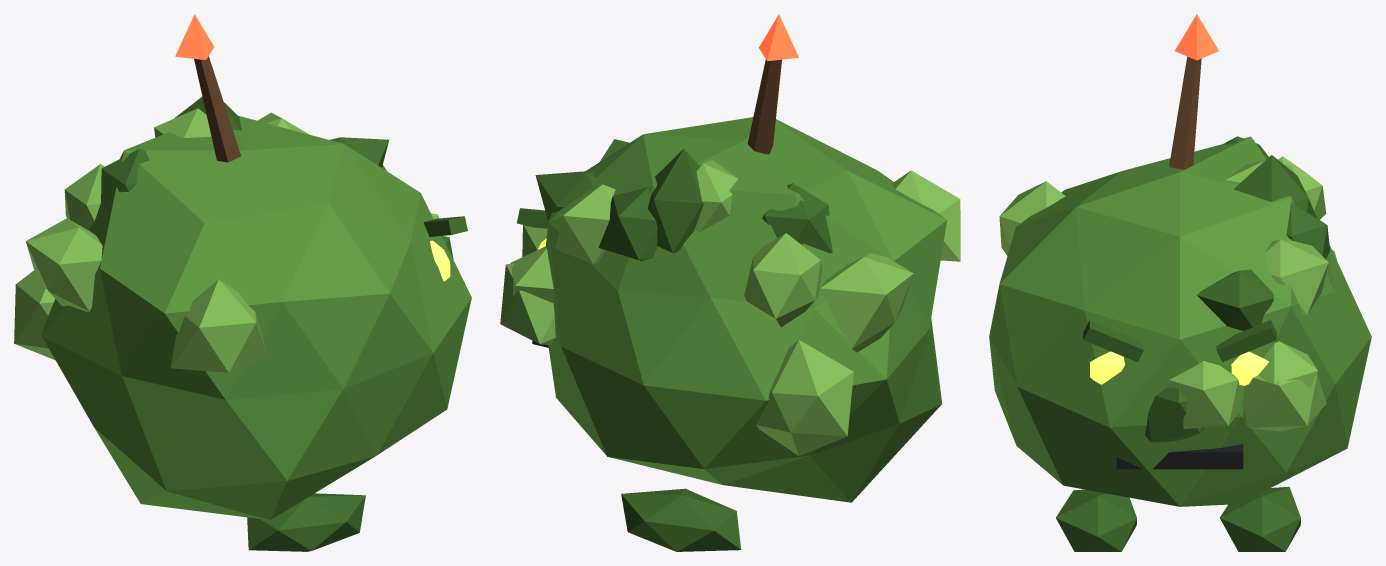
The model's file is pysare.glb.
The picture shows the model from 3 angles, left to right: view 1: azimuth 30°, elevation 25°; view 2: azimuth 150°, elevation 25°; view 3: azimuth 270°, elevation 25°; orthographic projection. The views are drawn at different scales.
Parts seen in each view (by area): view 1: pysare; view 2: pysare; view 3: pysare.
Boxes of the visible parts, x1,y1,x2,y2 form: pysare: [14, 14, 471, 551]; pysare: [500, 14, 960, 551]; pysare: [989, 14, 1371, 551].
Bounding box in the file's own units: 1.17 × 1.5 × 1.03.
